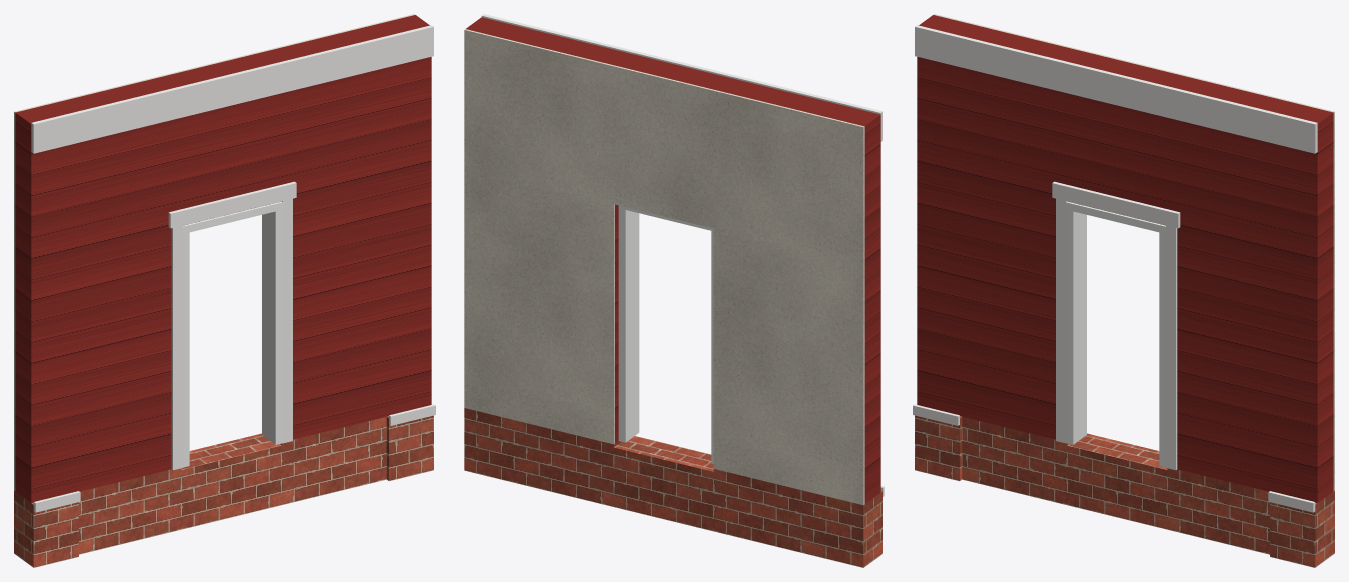
Rendered from school_wall_door.glb.
3 renders of one model, left to right at view 1: azimuth 30°, elevation 25°; view 2: azimuth 150°, elevation 25°; view 3: azimuth 330°, elevation 25°, orthographic.
Parts seen in each view (by area): view 1: school_wall_door_siding, school_wall_door_brick, school_wall_door_trim, school_wall_door_frame, school_wall_door_plaster; view 2: school_wall_door_plaster, school_wall_door_brick, school_wall_door_siding, school_wall_door_frame, school_wall_door_trim; view 3: school_wall_door_siding, school_wall_door_brick, school_wall_door_trim, school_wall_door_frame, school_wall_door_plaster.
Part boxes in pixels (bbox=[...]): school_wall_door_siding: bbox=[15, 15, 431, 503]; school_wall_door_brick: bbox=[14, 415, 433, 567]; school_wall_door_trim: bbox=[31, 25, 435, 512]; school_wall_door_frame: bbox=[183, 201, 282, 467]; school_wall_door_plaster: bbox=[14, 14, 415, 491]; school_wall_door_plaster: bbox=[464, 29, 864, 505]; school_wall_door_brick: bbox=[464, 408, 882, 567]; school_wall_door_siding: bbox=[466, 17, 880, 503]; school_wall_door_frame: bbox=[618, 205, 713, 464]; school_wall_door_trim: bbox=[481, 14, 884, 496]; school_wall_door_siding: bbox=[917, 15, 1333, 503]; school_wall_door_brick: bbox=[915, 415, 1334, 567]; school_wall_door_trim: bbox=[913, 25, 1317, 512]; school_wall_door_frame: bbox=[1066, 201, 1165, 467]; school_wall_door_plaster: bbox=[933, 14, 1334, 491].
Size of the model in its own units: 4 by 4.24 by 0.37.
Materials: 5 (3 with a texture image).
